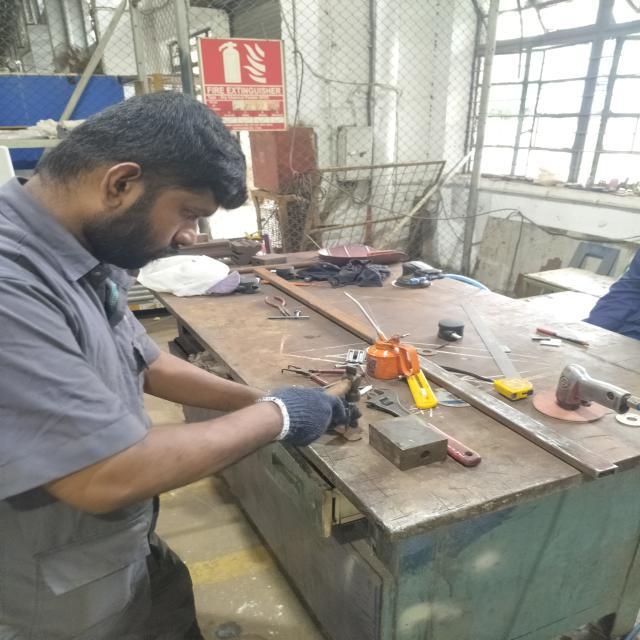Gloves-Detection: (247, 373, 353, 449)
